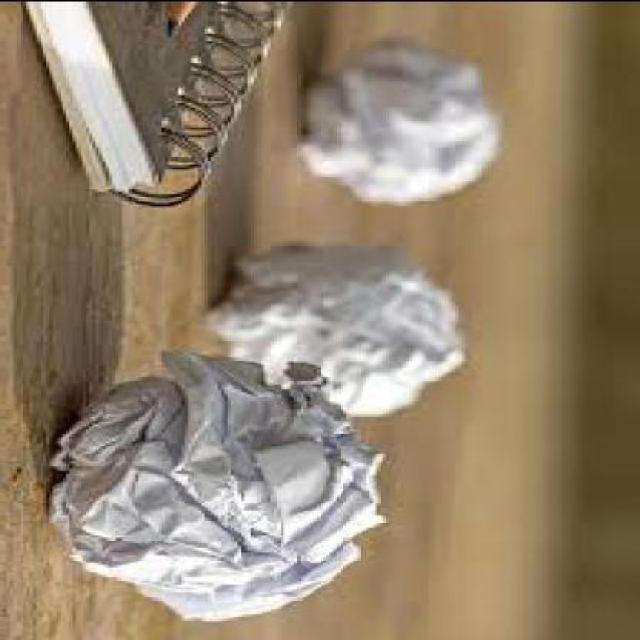PAPER: (52, 350, 392, 624), (208, 242, 469, 420), (20, 2, 231, 193), (293, 40, 509, 208)
